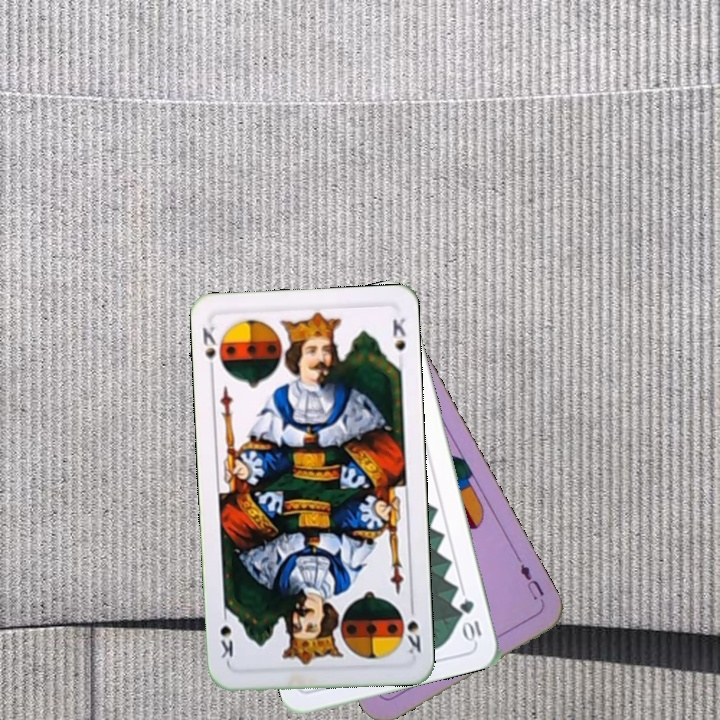EU: (513, 554, 548, 609)
G10: (456, 595, 484, 644)
SK: (403, 599, 423, 656), (198, 323, 218, 377)
